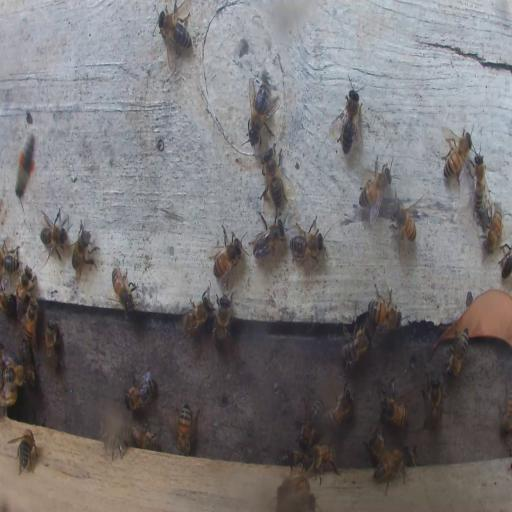nonpollenbee: (247, 75, 278, 141), (358, 159, 390, 222), (260, 148, 291, 212), (156, 3, 192, 54), (38, 206, 70, 262), (211, 224, 243, 280), (70, 217, 96, 282), (338, 84, 363, 151), (373, 446, 406, 495), (389, 194, 420, 246), (288, 217, 324, 261), (302, 445, 340, 485), (124, 364, 156, 410), (252, 214, 284, 260), (420, 374, 444, 432), (111, 262, 136, 316), (443, 132, 471, 180), (325, 385, 353, 432), (181, 293, 211, 336), (9, 428, 38, 472), (340, 324, 370, 366), (444, 327, 469, 375), (298, 402, 322, 448), (44, 317, 63, 370), (379, 393, 407, 428), (275, 473, 310, 500), (214, 293, 232, 344), (485, 204, 503, 254), (472, 154, 486, 218), (125, 425, 161, 449), (368, 300, 399, 327), (0, 364, 34, 388), (14, 266, 36, 303), (22, 296, 37, 350), (102, 426, 126, 459), (176, 404, 191, 456), (499, 380, 512, 440), (365, 427, 385, 463), (2, 246, 20, 274), (499, 245, 512, 276), (1, 280, 12, 312), (277, 451, 297, 466), (404, 444, 414, 465)
pollenbee: (15, 132, 37, 200)
